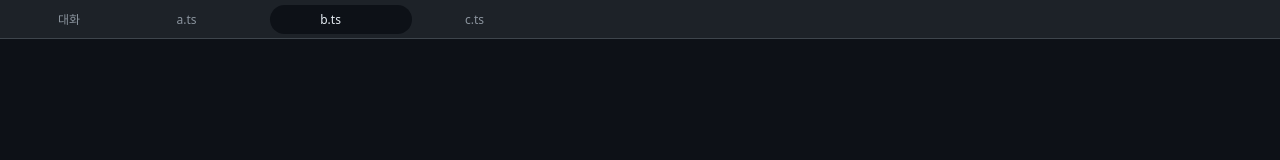
Scenario: 탭 우클릭 닫기 메뉴 › 닫을 것이 없는 항목은 잠긴다
Right-click the text "a.ts".
right_click(197, 19)  # box [142,10,252,28]
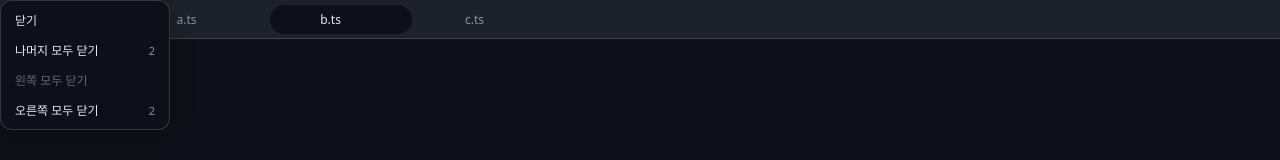
Expected: the menu item "왼쪽 모두 닫기" is disabled, [5,65,165,95]
Expected: the menu item "오른쪽 모두 닫기 2" is enabled, [5,95,165,125]
